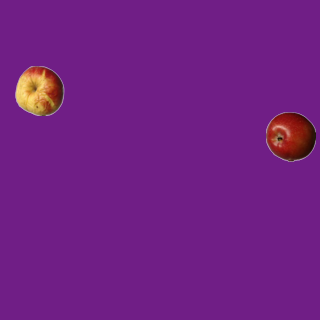Apple Braeburn: (265, 111, 315, 161)
Apple Red Yellow 1: (14, 65, 64, 115)
